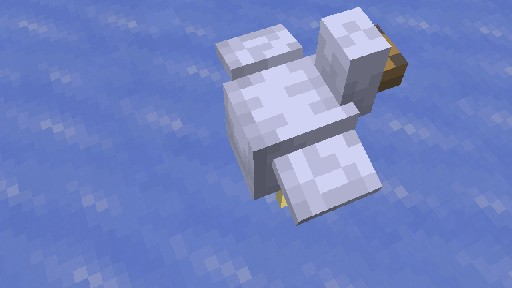chicken: (214, 5, 408, 226)
